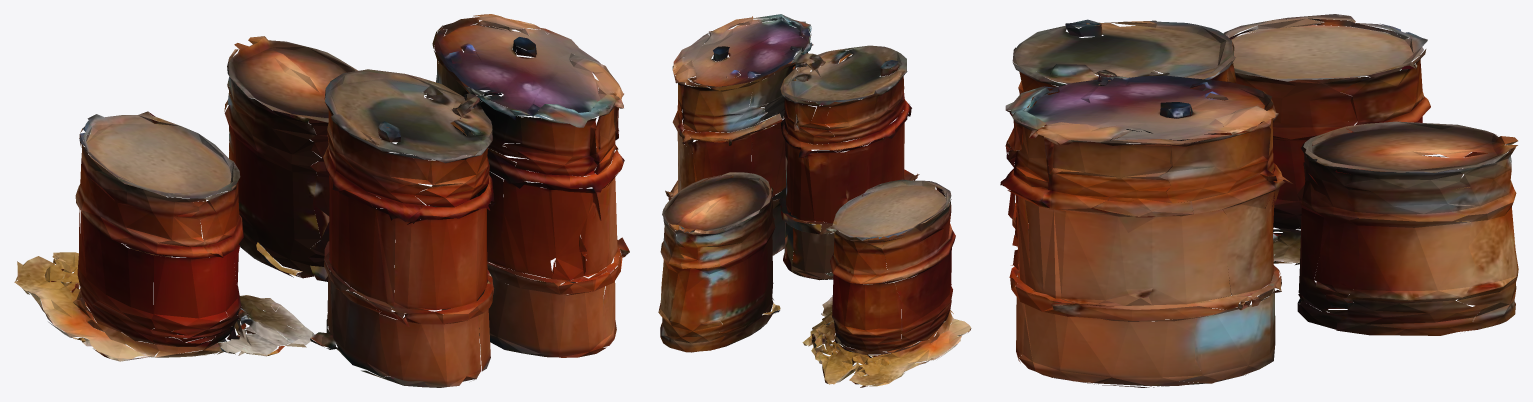
File: oil-drum-cluster.glb
The picture shows the model from 3 angles, left to right: view 1: azimuth 30°, elevation 25°; view 2: azimuth 150°, elevation 25°; view 3: azimuth 270°, elevation 25°; orthographic projection. The views are drawn at different scales.
Visible parts, largest first — view 1: tmpswmg8kly.ply; view 2: tmpswmg8kly.ply; view 3: tmpswmg8kly.ply.
Boxes of the visible parts, x1,y1,x2,y2 form: tmpswmg8kly.ply: (14,14,629,387); tmpswmg8kly.ply: (658,14,971,387); tmpswmg8kly.ply: (1000,14,1518,387).
Size of the model in its own units: 2.5 by 1.4 by 2.5.
1 material, 1 textured.
